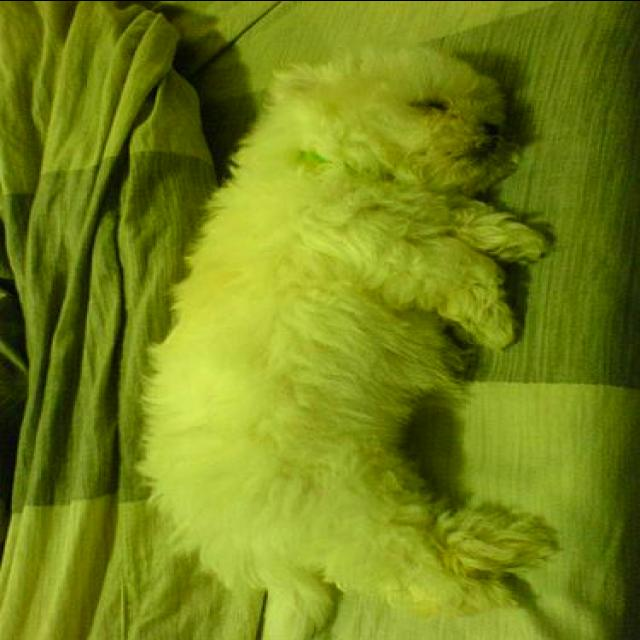maltese_dog: (136, 48, 556, 640)
